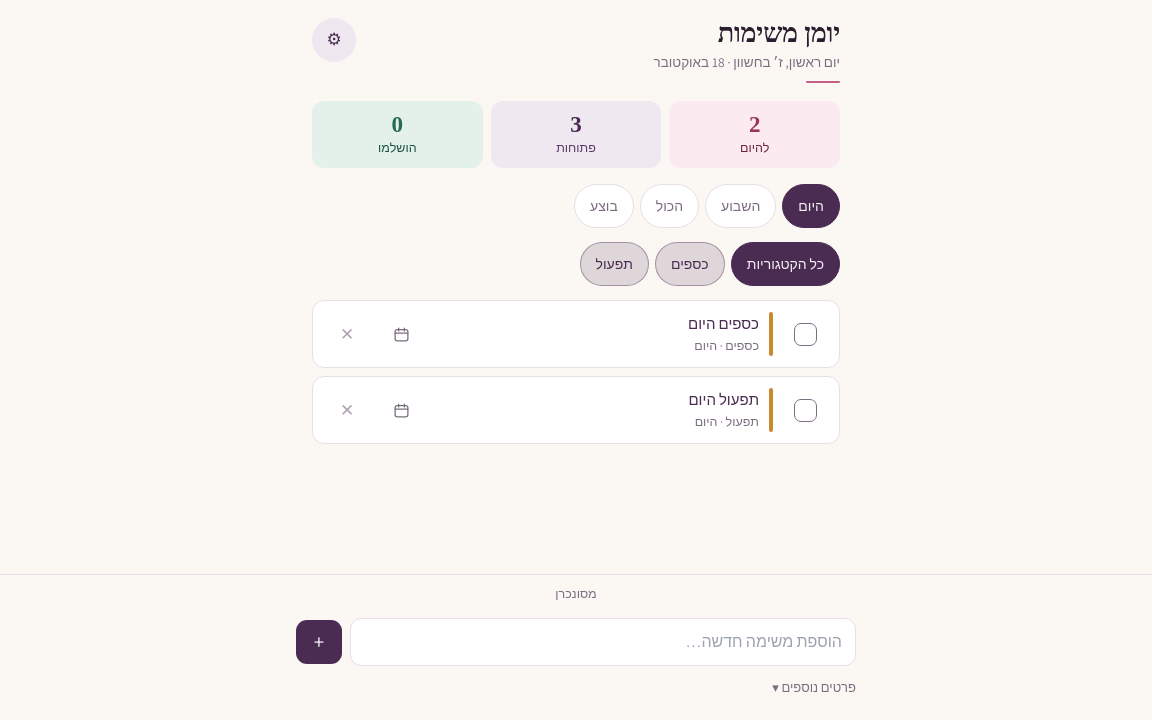
Test: MainScreen › combines the date filter with the category filter, and leaves the counters alone
The image size is (1152, 720).
Expected: the text "כספים היום" is shown, [688,313,759,335]
Click the button "כספים" at (690, 264), box [655,242,725,286]
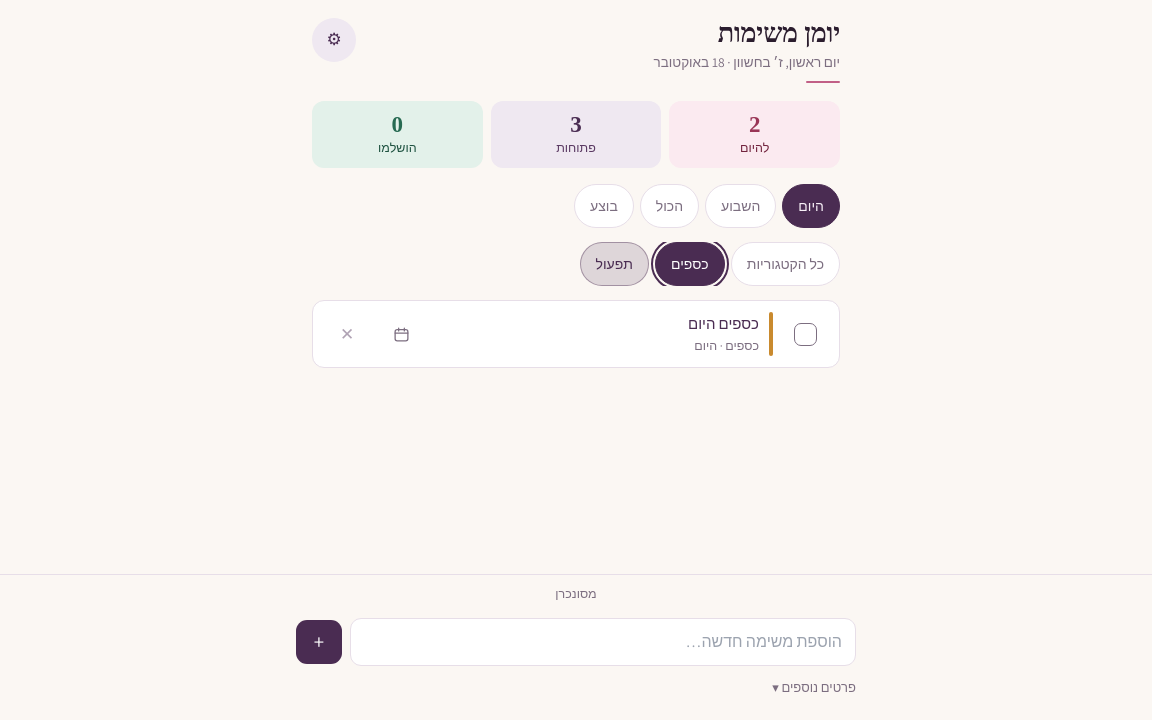
Expected: the text "כספים היום" is shown, [688,313,759,335]
Now the button "תפעול היום" is gone
Click the button "הכול" at (669, 206), box [640,184,699,228]
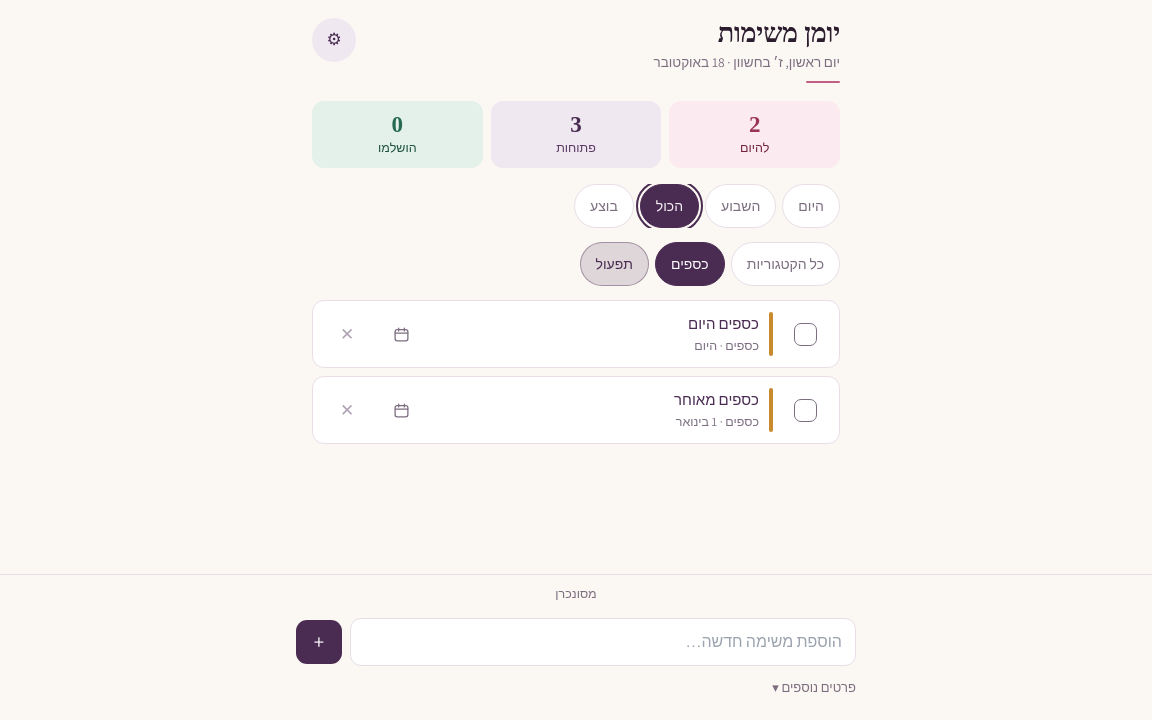
Expected: the button "תפעול היום" is not shown
Now the text "כספים מאוחר" is shown, box [674,389,759,411]
